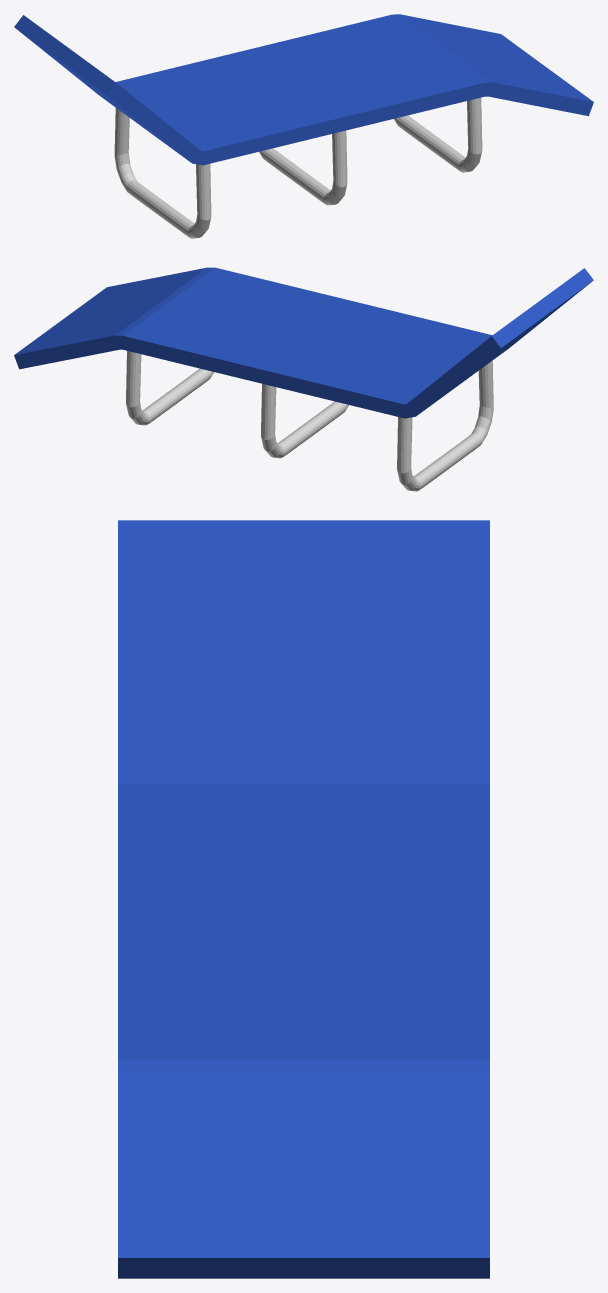
The model's file is Hamaca.FBX.
The picture shows the model from 3 angles, top to bottom: view 1: azimuth 30°, elevation 25°; view 2: azimuth 150°, elevation 25°; view 3: azimuth 270°, elevation 25°; orthographic projection. The views are drawn at different scales.
Parts seen in each view (by area): view 1: Cube, Cylinder.002, Cylinder, Cylinder.001; view 2: Cube, Cylinder.002, Cylinder, Cylinder.001; view 3: Cube.
Part boxes in pixels (x1,y1,x2,y2): Cube: (14,14,593,165); Cylinder.002: (114,108,211,238); Cylinder: (394,97,482,172); Cylinder.001: (259,130,347,205); Cube: (14,267,593,418); Cylinder.002: (397,360,493,491); Cylinder: (126,351,213,425); Cylinder.001: (261,383,348,458); Cube: (118,520,489,1278).
Bounding box in the file's own units: 784 × 292 × 259.
2 materials, 2 textured.
